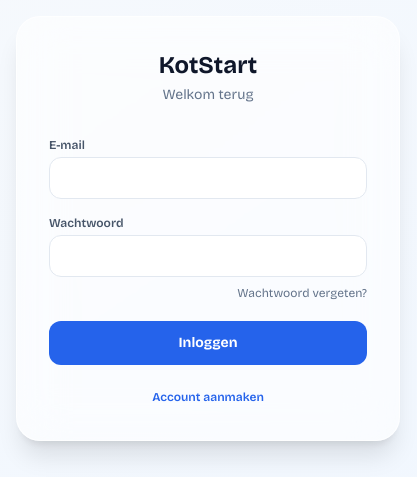
Test case: LoginPage › schakelt naar registratieformulier via account aanmaken knop
What coordinates should you click on to do the following:
click the button "Account aanmaken"
I would click on:
 (208, 396)
Its box is [49,388,367,404].
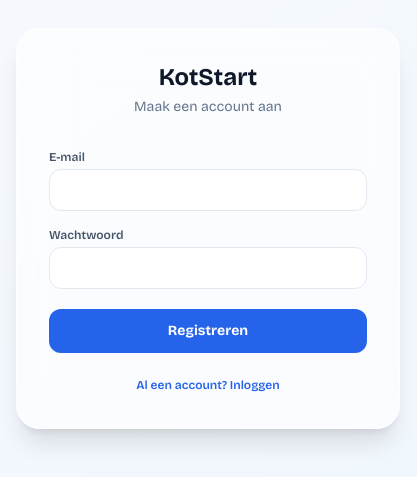
Expected: the button "Registreren" is shown, [49,308,367,352]
